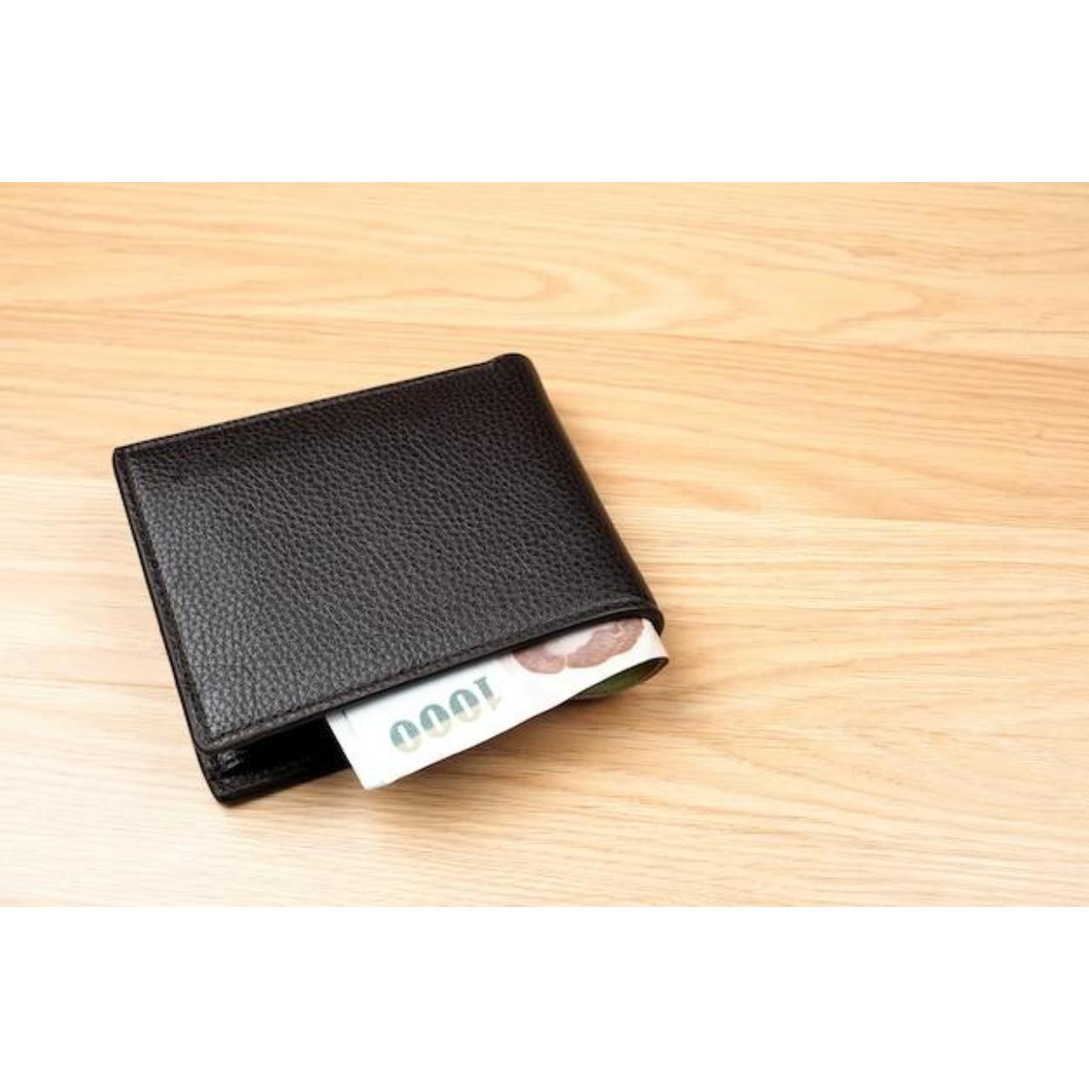wallet: (95, 331, 707, 797)
